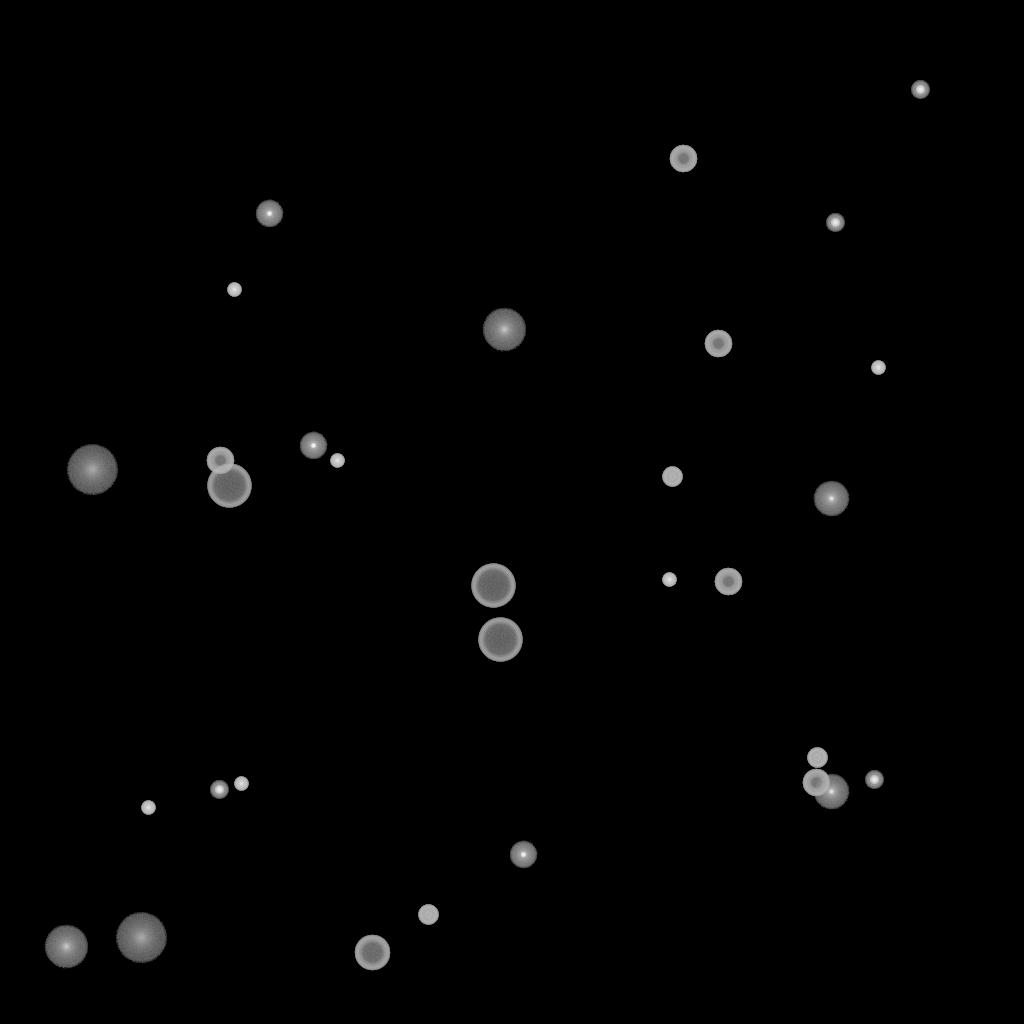depth:-10: (509, 841, 537, 869), (299, 432, 327, 460), (255, 200, 283, 228)
depth:-20: (911, 81, 929, 99), (210, 781, 228, 799), (865, 771, 883, 789), (826, 214, 844, 232)
depth:-30: (330, 454, 344, 468), (227, 283, 241, 297), (871, 361, 885, 375), (662, 573, 676, 587), (234, 777, 248, 791), (141, 801, 155, 815)
depth:-40: (662, 467, 682, 487), (418, 905, 438, 925), (807, 748, 827, 768)
depth:-50: (704, 330, 732, 358), (802, 769, 830, 797), (714, 568, 742, 596), (669, 145, 697, 173), (206, 447, 234, 475)
depth:-60: (354, 935, 390, 971)
depth:-70: (478, 618, 522, 662), (207, 464, 251, 508), (471, 564, 515, 608)
depth:0: (813, 481, 849, 517), (813, 774, 849, 810)
depth:10: (44, 925, 88, 969), (482, 308, 526, 352)
depth:20: (66, 445, 118, 495), (115, 913, 167, 963)
